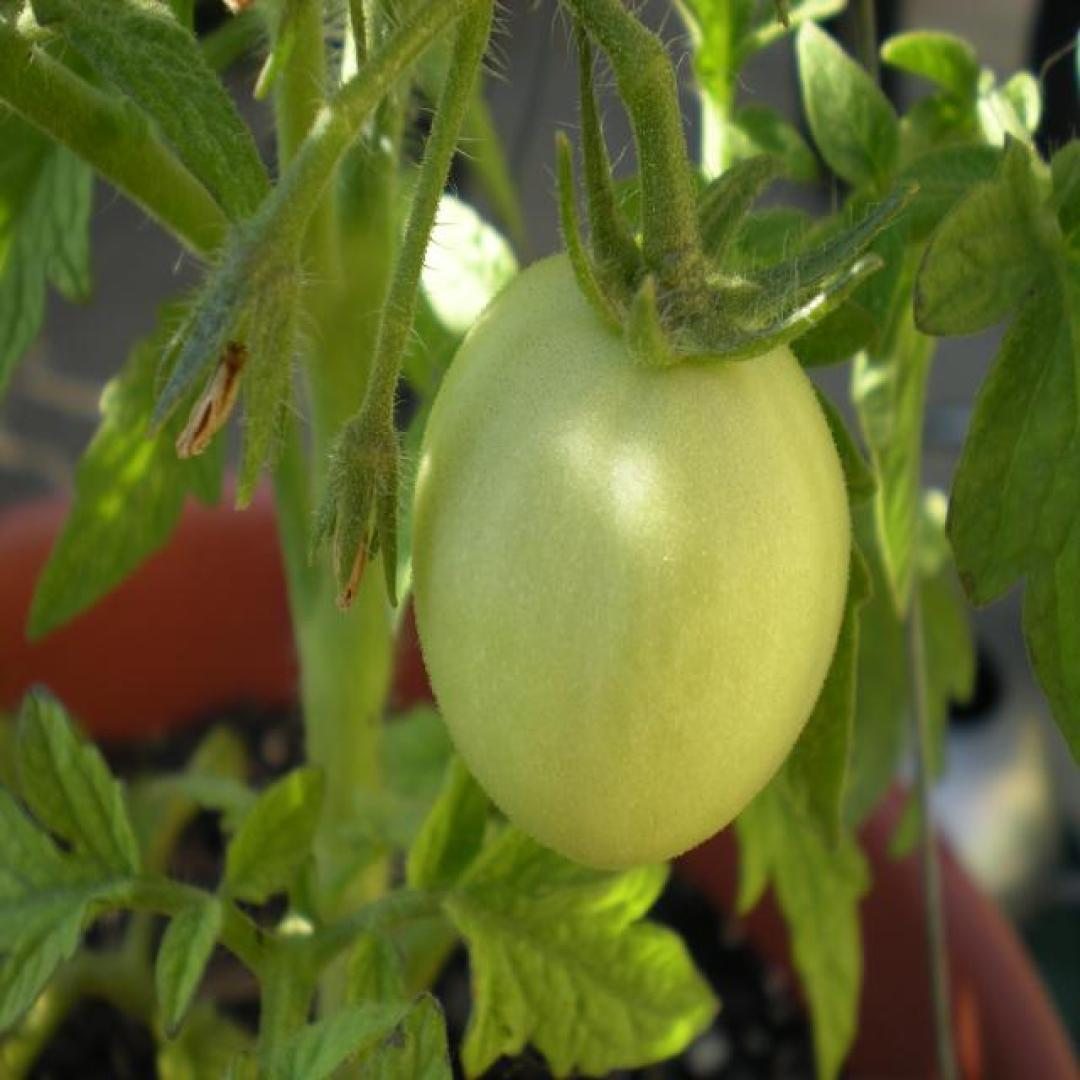mentah: (410, 234, 856, 876)
